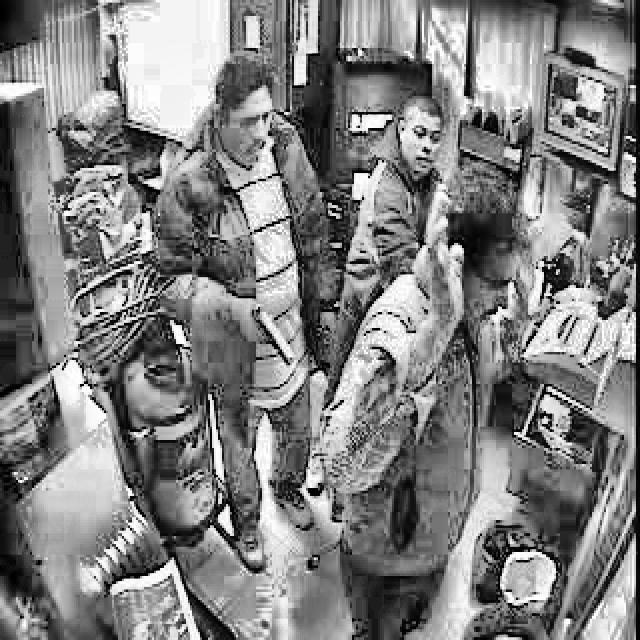robbery: (147, 48, 345, 411), (318, 186, 526, 501)
